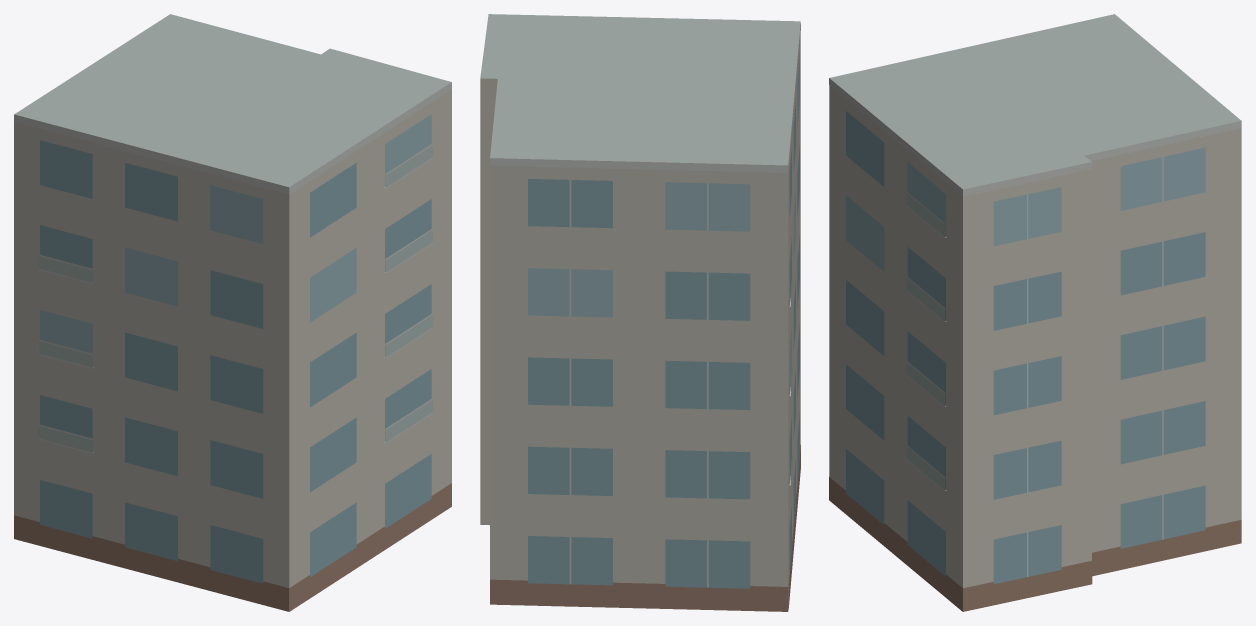
File: survey-upis-32840741.glb
The picture shows the model from 3 angles, left to right: view 1: azimuth 30°, elevation 25°; view 2: azimuth 150°, elevation 25°; view 3: azimuth 270°, elevation 25°; orthographic projection. The views are drawn at different scales.
Parts seen in each view (by area): view 1: survey-upis-32840741.tmp; view 2: survey-upis-32840741.tmp; view 3: survey-upis-32840741.tmp.
Boxes of the visible parts, x1,y1,x2,y2 form: survey-upis-32840741.tmp: (14,14,451,611); survey-upis-32840741.tmp: (480,14,800,611); survey-upis-32840741.tmp: (829,14,1241,611).
Size of the model in its own units: 12.79 by 14.35 by 12.71.
